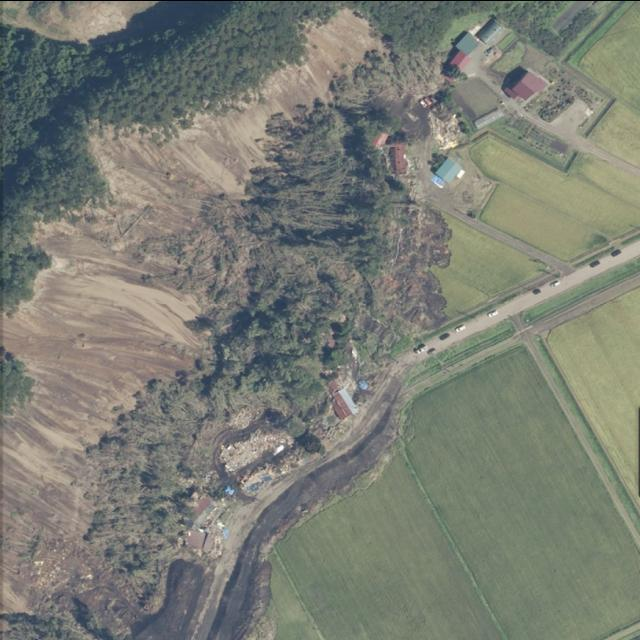landslide: (1, 8, 380, 612), (86, 102, 447, 591)
